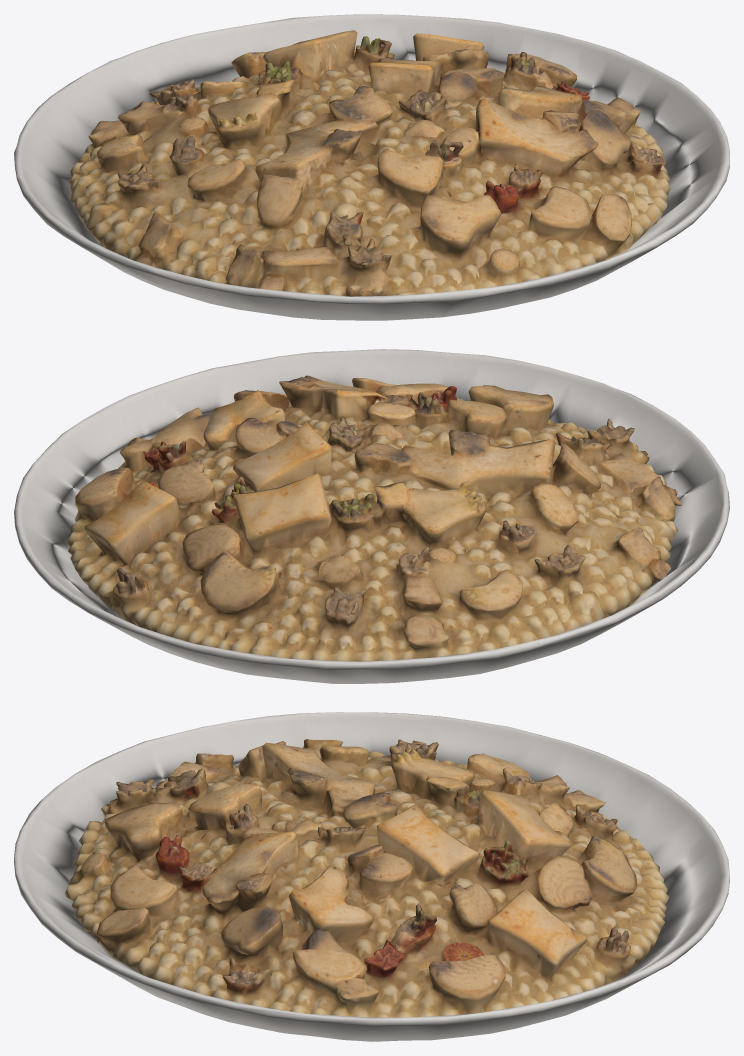
File: risotto_funghi_pollo.fbx
3 views of the same model, one above another, from view 1: azimuth 30°, elevation 25°; view 2: azimuth 150°, elevation 25°; view 3: azimuth 270°, elevation 25° (orthographic).
Visible parts, largest first — view 1: meshes[0]; view 2: meshes[0]; view 3: meshes[0].
Boxes of the visible parts, x1=… form: meshes[0]: x1=14, y1=14, x2=729, y2=320; meshes[0]: x1=14, y1=349, x2=729, y2=683; meshes[0]: x1=14, y1=712, x2=729, y2=1041.
Bounding box in the file's own units: 99.8 × 19.34 × 99.8.
1 material, 1 textured.
